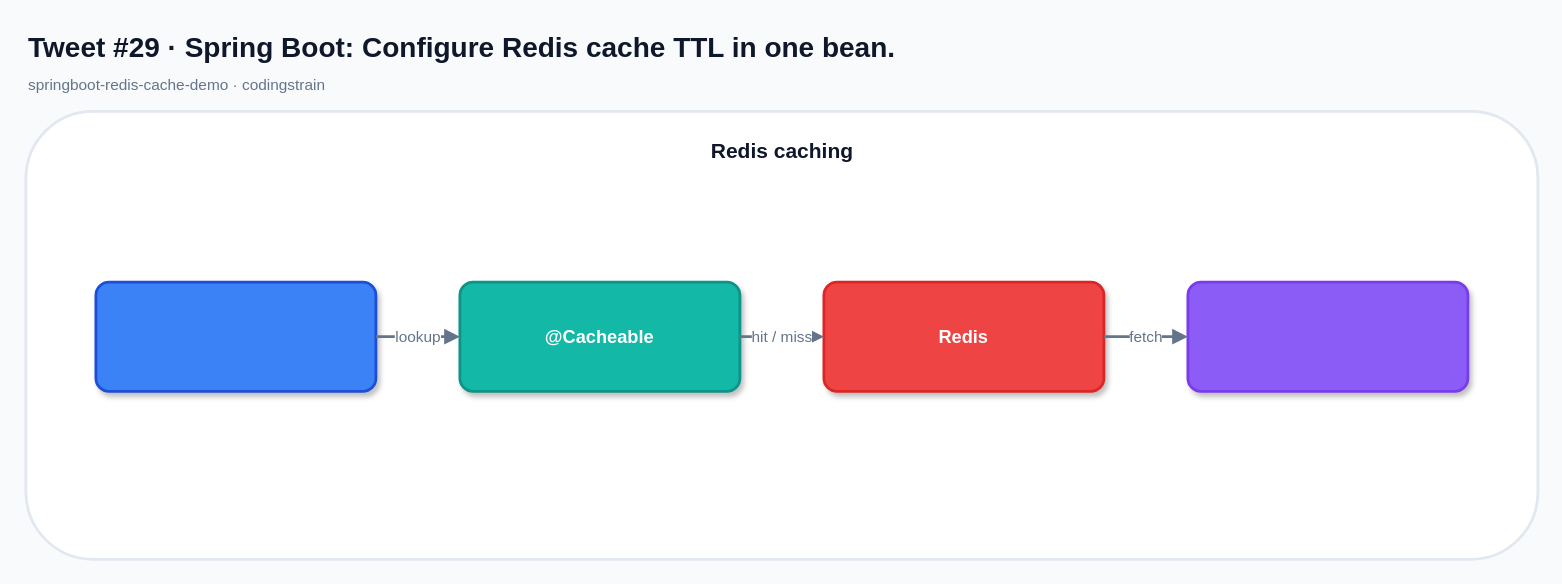
This 1562x584 diagram has some shape labels left out. Here are the shapes that lost their labels. From the top down, the centre of each, then its label:
At (236,338): "Request".
At (1328,338): "External API".
